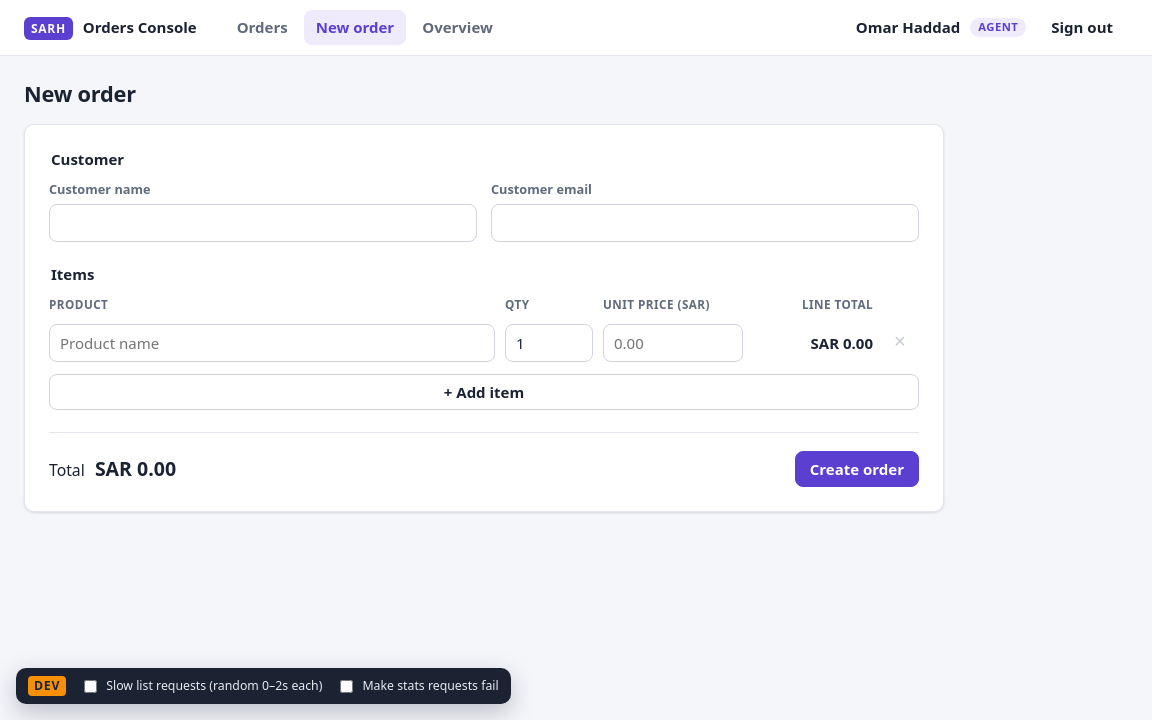
Test: CreateOrderPage › sends one request on a double-click, with a UUID key and a normalised body
This screenshot has width=1152, height=720.
Expected: the heading "New order" is shown, [24,78,136,110]
Type "  Huda Al-Qahtani " into the field labelled "Customer name".
click(263, 223); type("  Huda Al-Qahtani ")  # box [49,204,477,242]
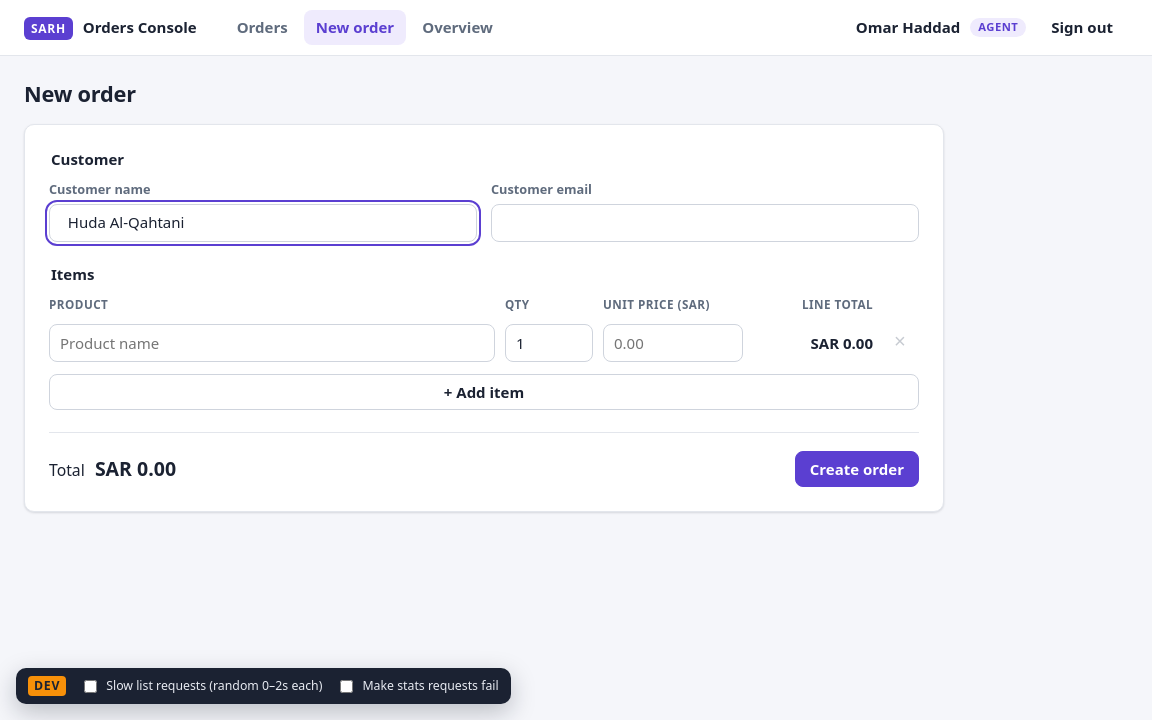
Type "Huda.Q@Example.com" into the field labelled "Customer email".
click(705, 223); type("Huda.Q@Example.com")  # box [491,204,919,242]
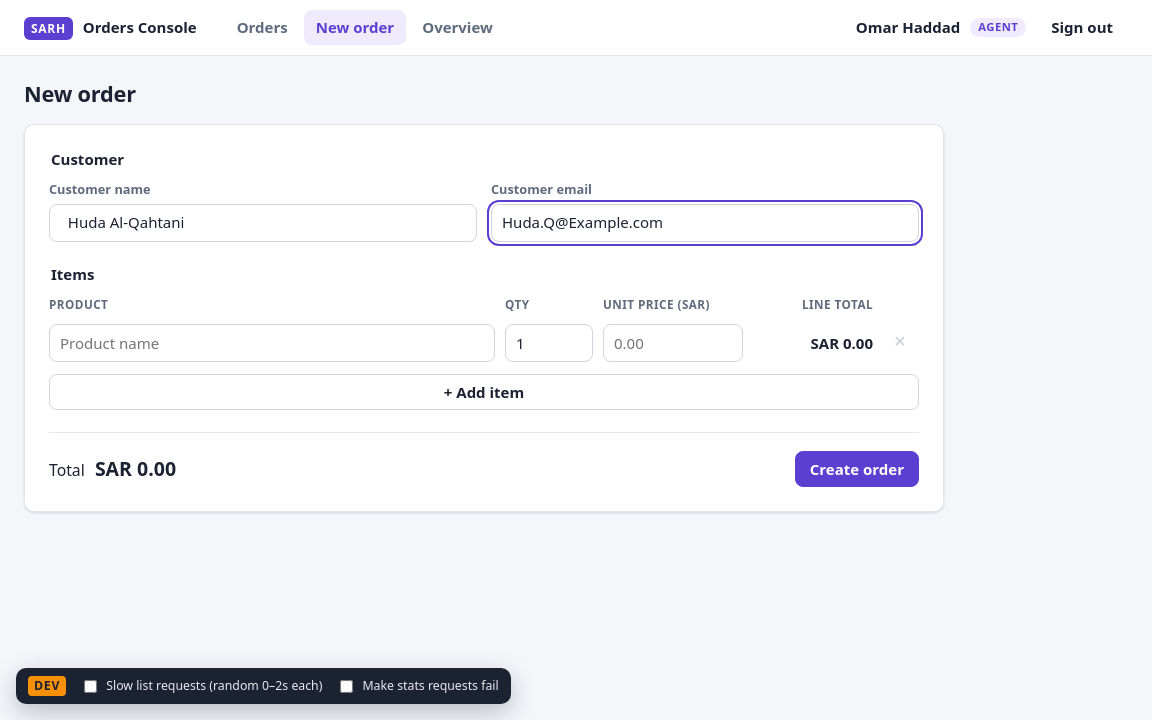
Type "Sukkari Dates Gift Box" into the field named "Product 1".
click(272, 344); type("Sukkari Dates Gift Box")  # box [49,324,495,362]
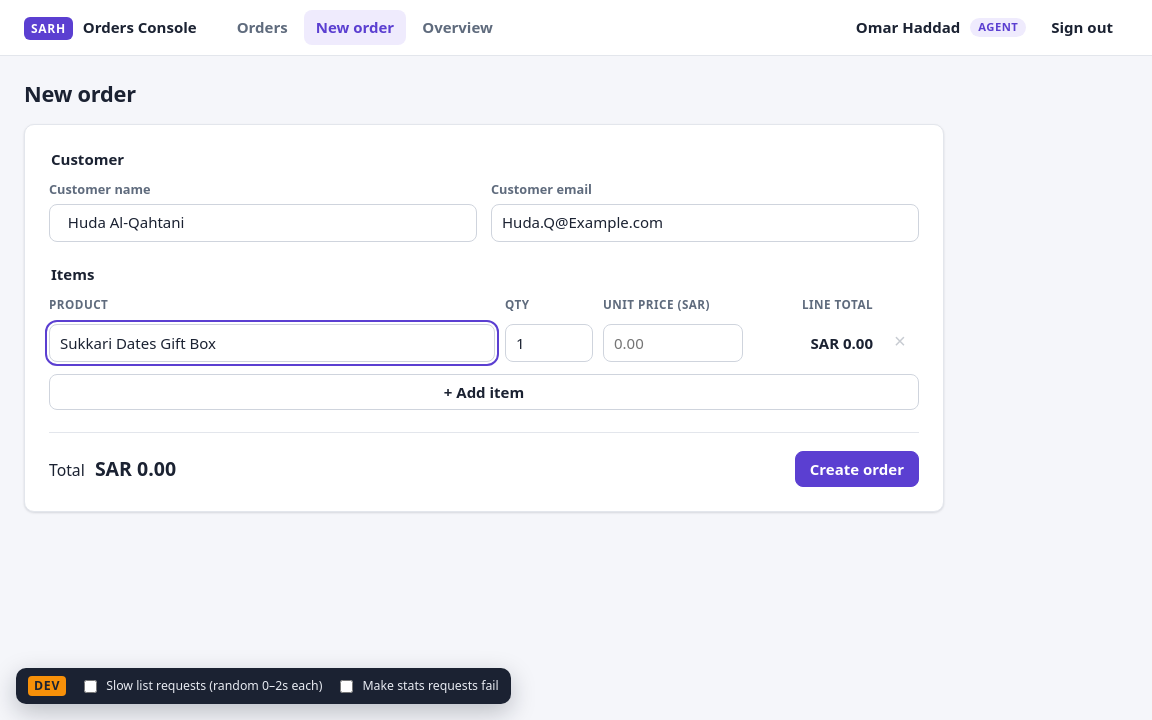
Replace the text in the number field named "Quantity 1" with "2" at (549, 344), box [505,324,593,362]
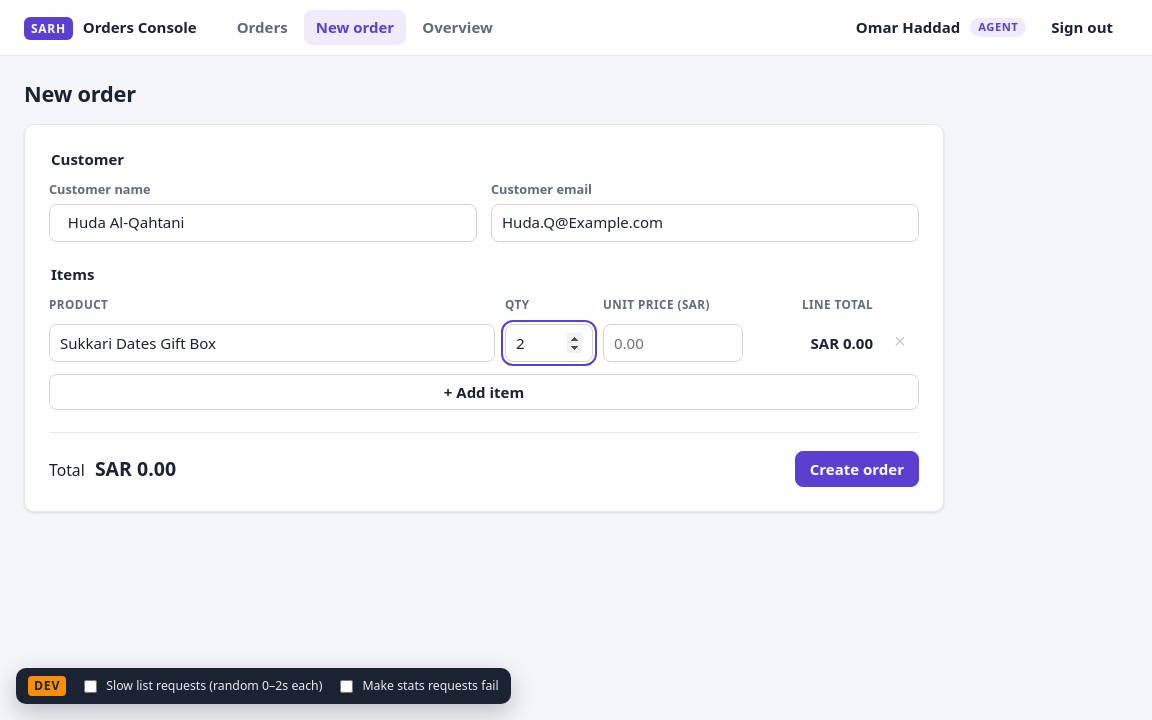
Type "95" into the field named "Unit price 1".
click(673, 344); type("95")  # box [603,324,743,362]
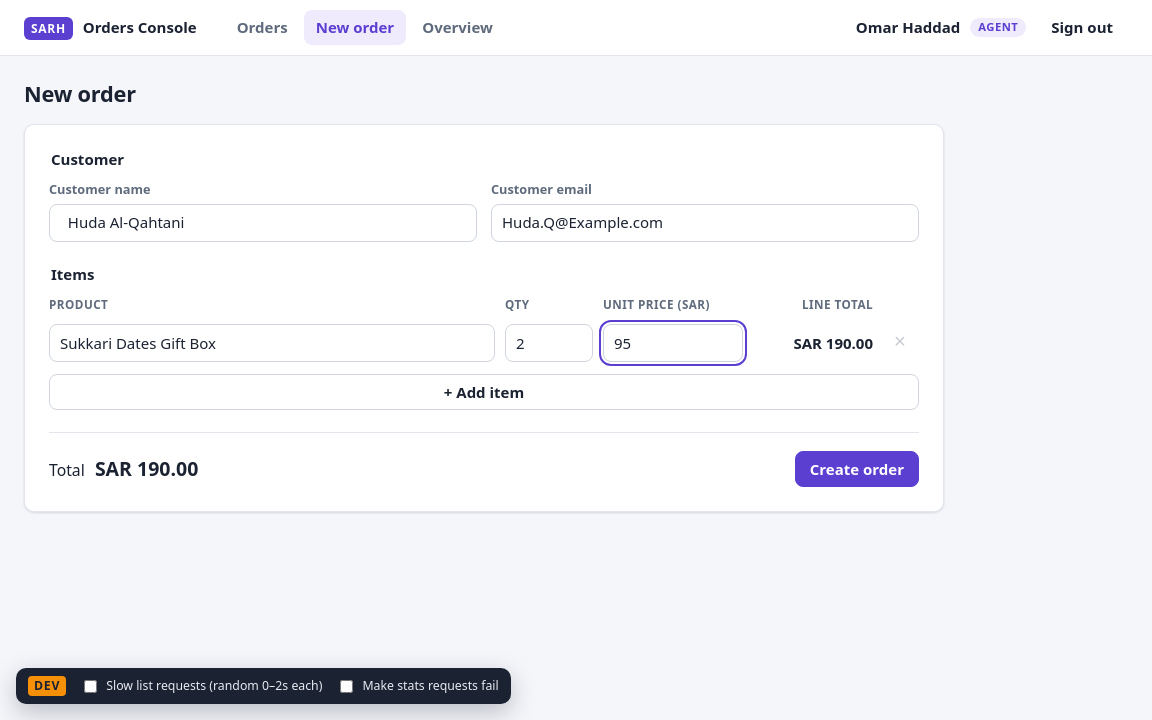
Double-click the button "Create order".
double_click(857, 470)  # box [795,452,919,488]
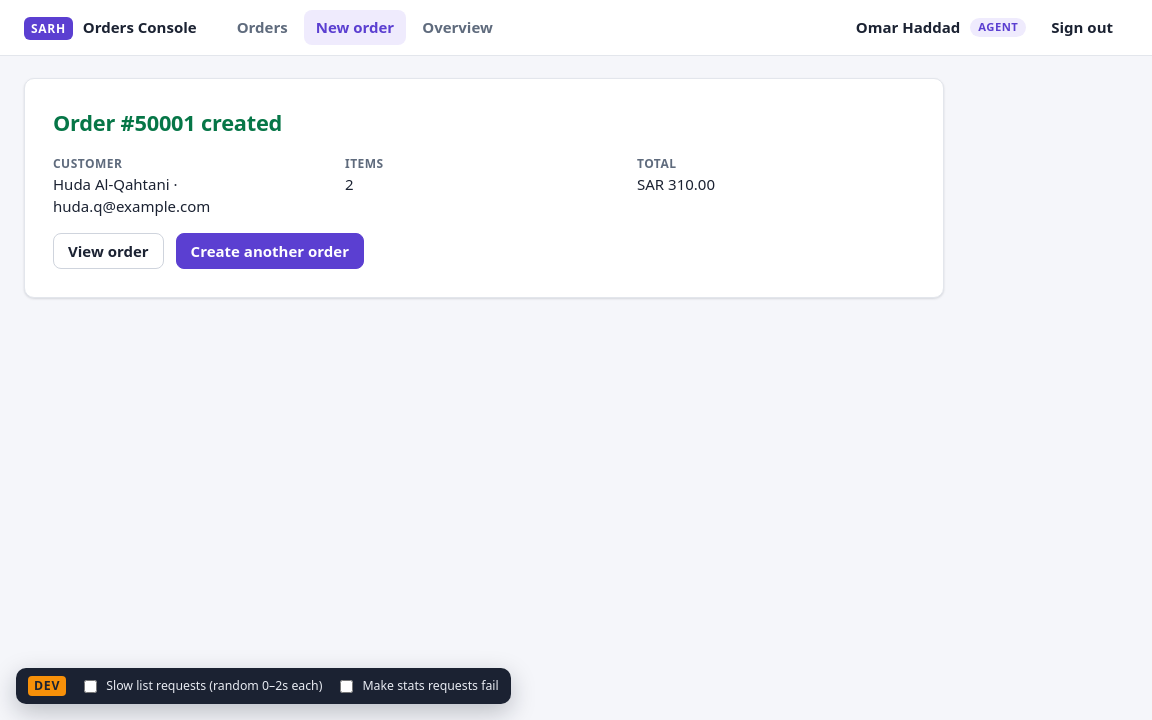
Expected: the heading "Order #50001 created" is shown, [53,108,282,137]
